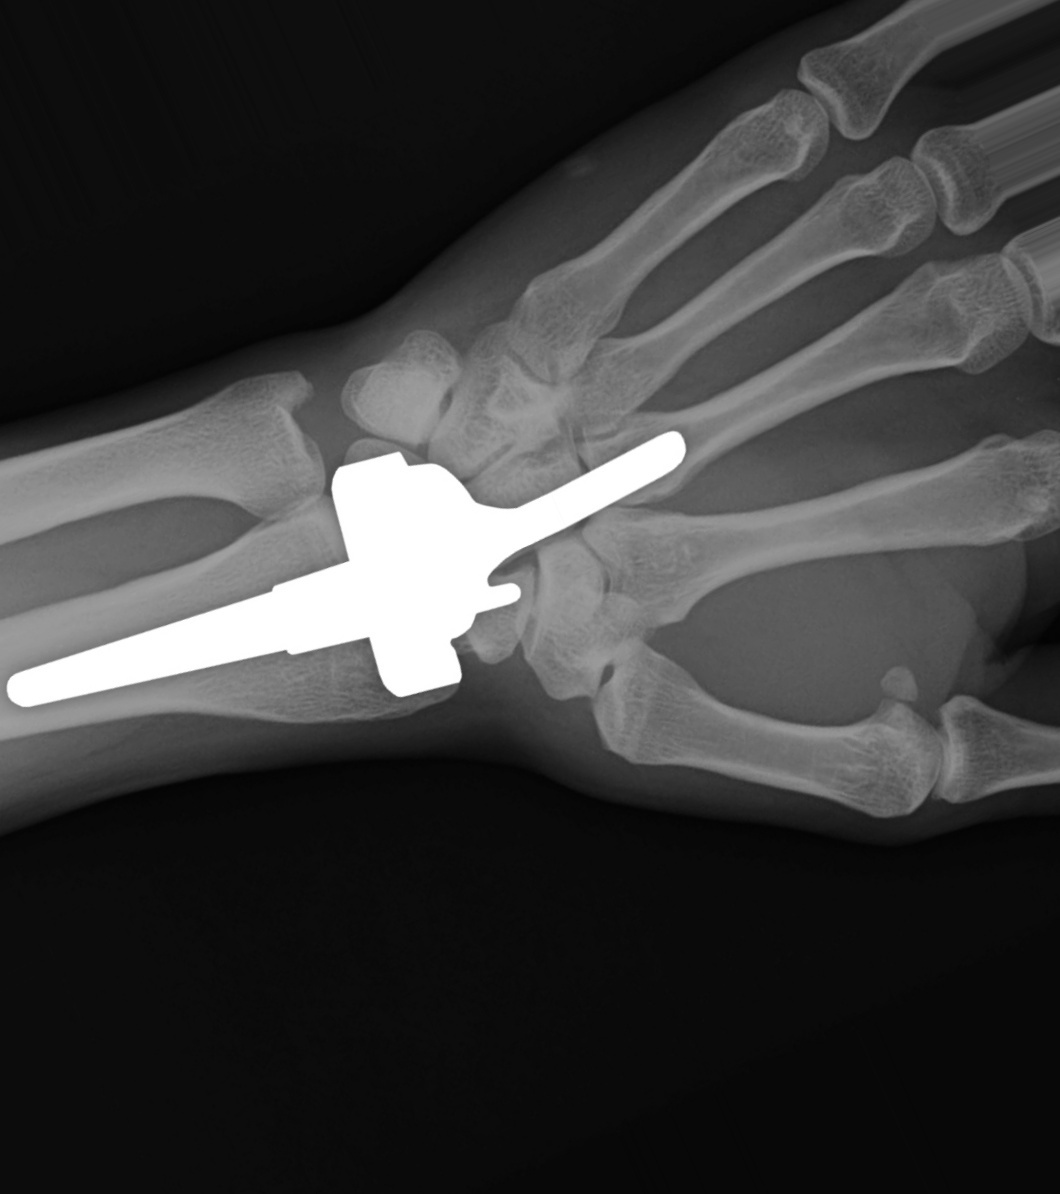Wrist-Biax-DePuuy: (8, 415, 689, 739)
